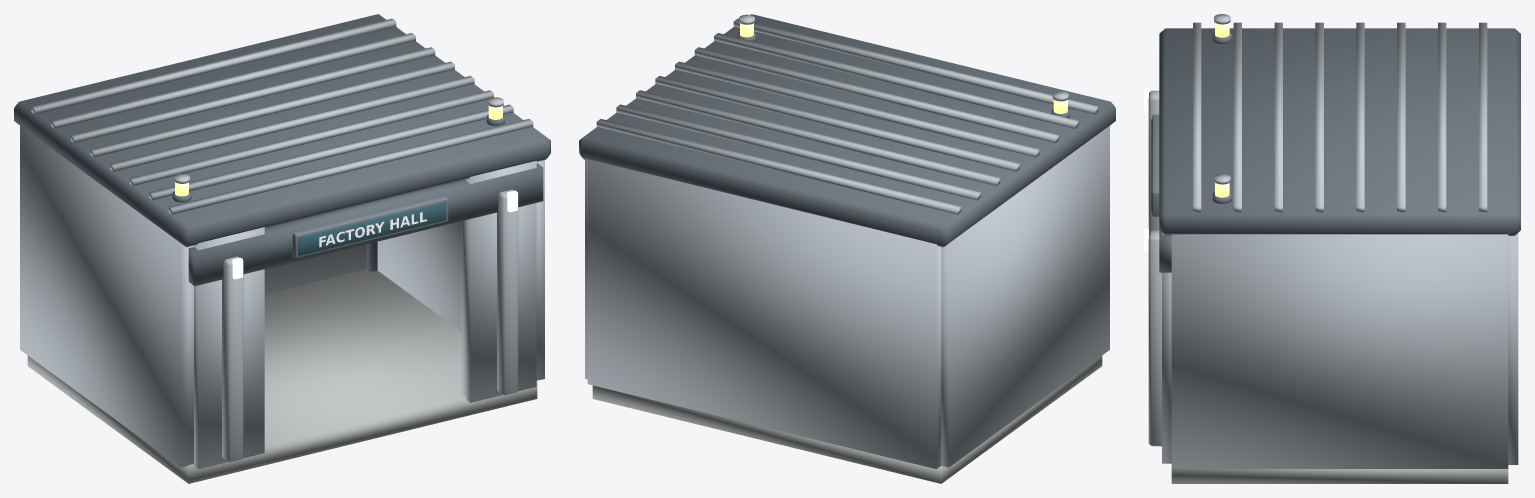
File: factory_hall_ultra.glb
3 renders of one model, left to right at view 1: azimuth 30°, elevation 25°; view 2: azimuth 150°, elevation 25°; view 3: azimuth 270°, elevation 25°, orthographic. The views are drawn at different scales.
Visible parts, largest first — view 1: Wall_steel_legacy_1, Roof_dark_legacy_2, Foundation_concrete_legacy_0, RoofRib_steel_legacy_12, FrontFrame_steel_legacy_3, Header_dark_legacy_4, PortalTrim_steel_legacy_15, SignPlate_glass, ScreenMount_frame, TypeLabel_white; view 2: Wall_steel_legacy_1, Roof_dark_legacy_2, RoofRib_steel_legacy_12, Foundation_concrete_legacy_0; view 3: Wall_steel_legacy_1, Roof_dark_legacy_2, RoofRib_steel_legacy_12, Foundation_concrete_legacy_0, PortalTrim_steel_legacy_15, FrontFrame_steel_legacy_3, ScreenMount_frame, Header_dark_legacy_4, StatusLight_warn_legacy_10.
Boxes of the visible parts, x1,y1,x2,y2 form: Wall_steel_legacy_1: (20,125,544,467); Roof_dark_legacy_2: (14,14,550,247); Foundation_concrete_legacy_0: (27,269,537,483); RoofRib_steel_legacy_12: (31,18,533,214); FrontFrame_steel_legacy_3: (194,160,536,469); Header_dark_legacy_4: (188,163,543,285); PortalTrim_steel_legacy_15: (222,189,518,462); SignPlate_glass: (298,201,446,255); ScreenMount_frame: (292,196,448,258); TypeLabel_white: (319,212,426,247); Wall_steel_legacy_1: (585,125,1109,469); Roof_dark_legacy_2: (579,14,1115,247); RoofRib_steel_legacy_12: (596,18,1098,214); Foundation_concrete_legacy_0: (592,356,1102,483); Wall_steel_legacy_1: (1171,233,1518,468); Roof_dark_legacy_2: (1159,28,1520,235); RoofRib_steel_legacy_12: (1193,22,1487,212); Foundation_concrete_legacy_0: (1171,469,1508,483); PortalTrim_steel_legacy_15: (1148,90,1161,446); FrontFrame_steel_legacy_3: (1162,233,1171,463); ScreenMount_frame: (1152,114,1159,216); Header_dark_legacy_4: (1159,230,1171,272); StatusLight_warn_legacy_10: (1215,23,1229,197).
Bounding box in the file's own units: 5.3 × 3.9 × 4.48.
